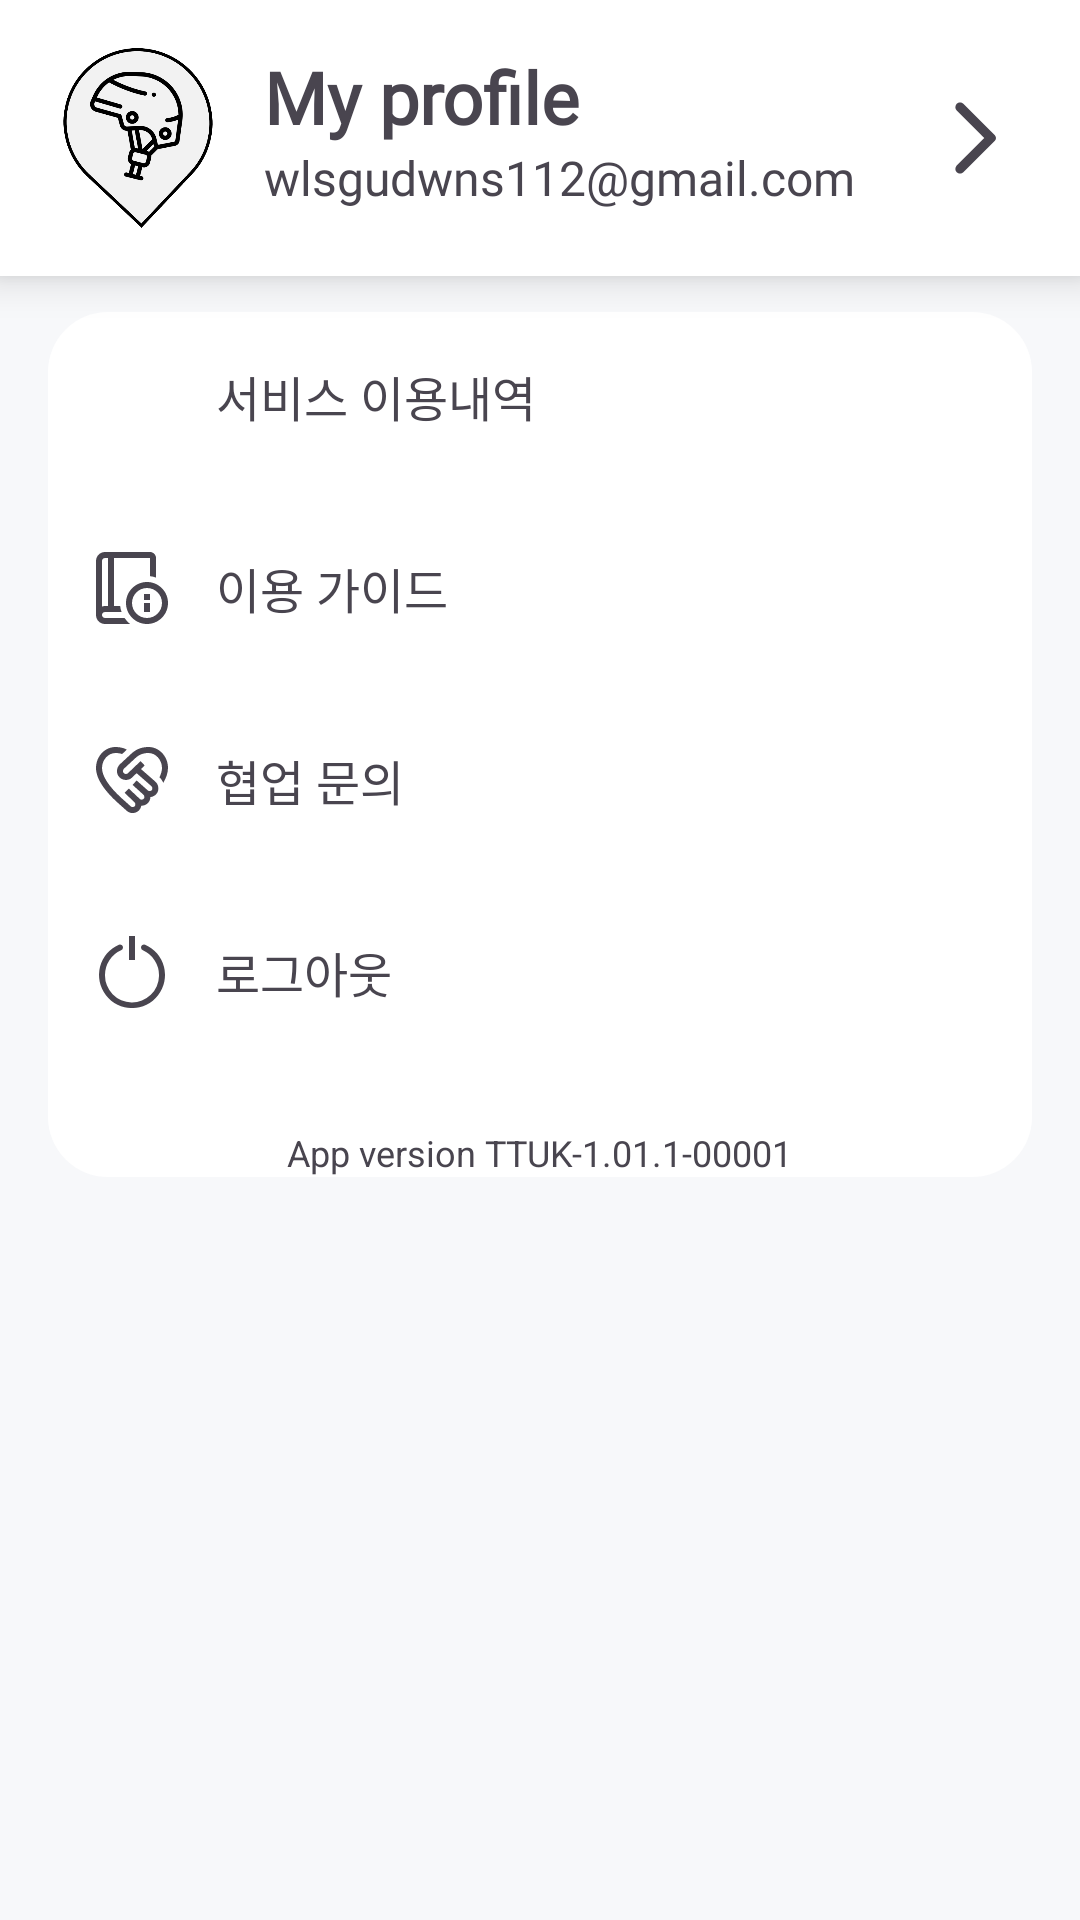

Screen size 1080 x 1920. Icon name, then its box in pixels as (x1, y1, x2, y2):
guide: (96, 552, 168, 624)
handshake: (96, 747, 168, 813)
power: (99, 936, 165, 1008)
